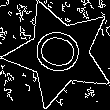O_E: (29, 27, 90, 81)
